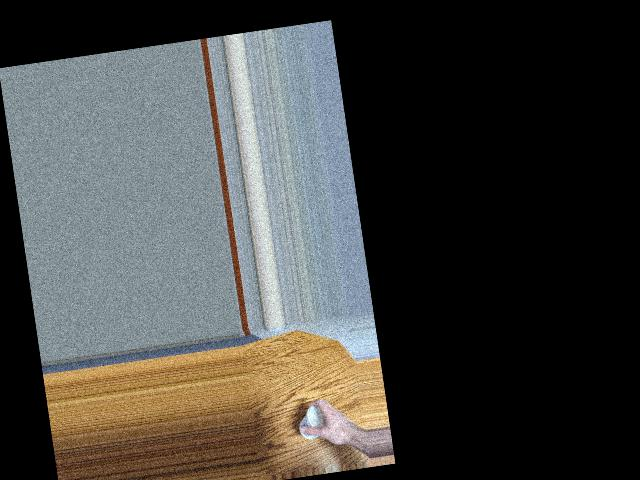cotage: (294, 398, 325, 442)
